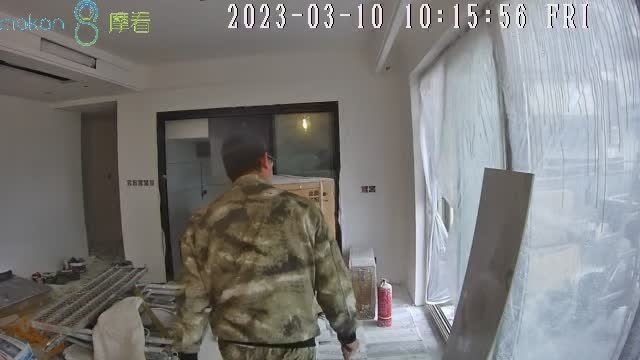people: (175, 131, 368, 360)
window: (415, 1, 640, 358)
